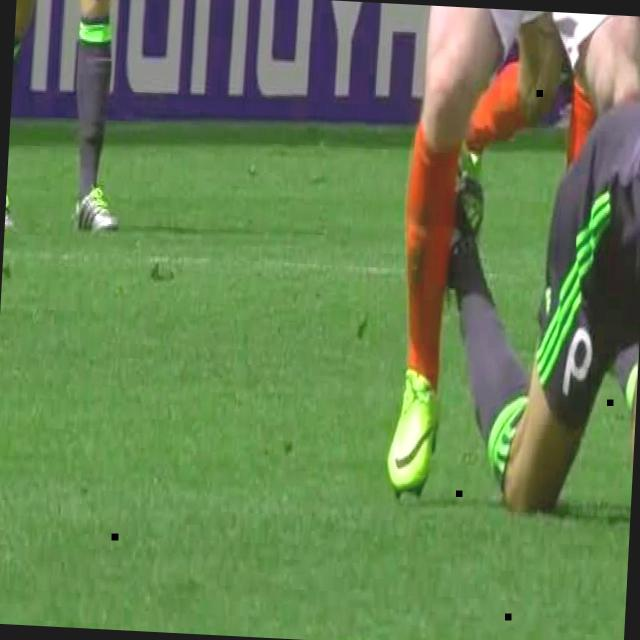player-white: (207, 0, 640, 497), (421, 65, 640, 550), (3, 0, 142, 246)
